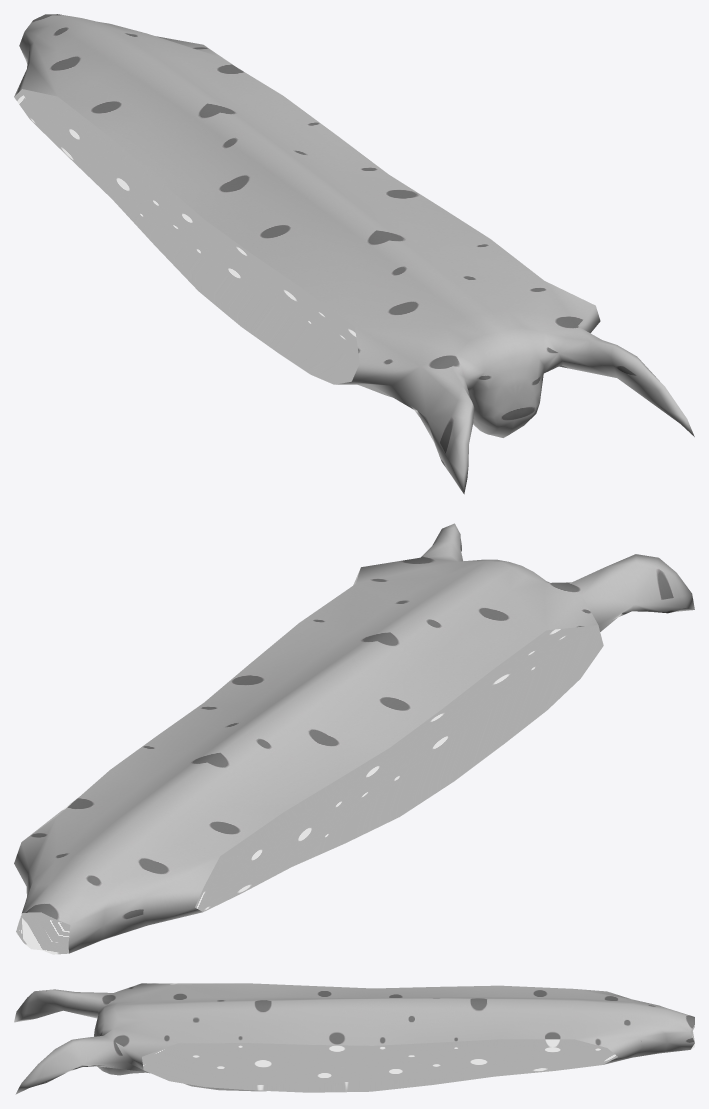
File: CuerpoManta.obj
The picture shows the model from 3 angles, top to bottom: view 1: azimuth 30°, elevation 25°; view 2: azimuth 150°, elevation 25°; view 3: azimuth 270°, elevation 25°; orthographic projection. The views are drawn at different scales.
Visible parts, largest first — view 1: Cuerpo; view 2: Cuerpo; view 3: Cuerpo.
Boxes of the visible parts, <box> form: Cuerpo: <box>14,14,694,494</box>; Cuerpo: <box>14,523,694,954</box>; Cuerpo: <box>14,983,694,1094</box>.
Bounding box in the file's own units: 9.68 × 5.05 × 35.96.
Materials: 3 (3 with a texture image).
